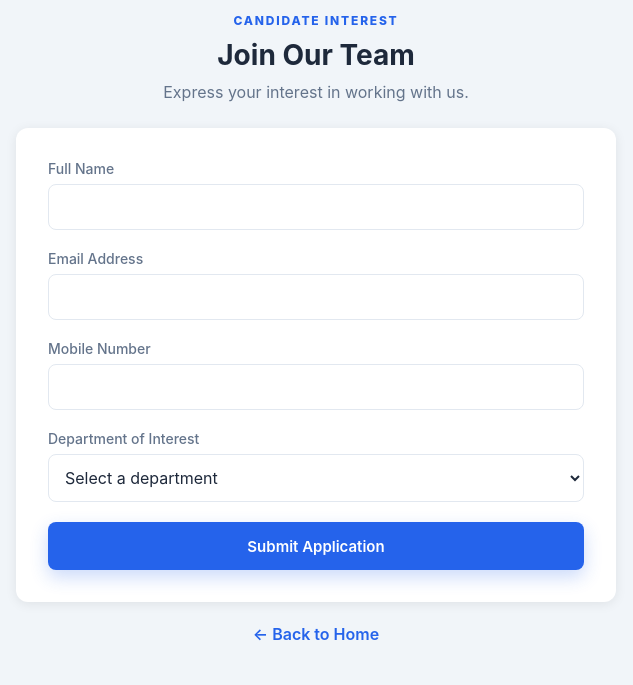
Test: InterestForm › shows field-level feedback and does not persist invalid candidate input
Type "Alex123" into the field labelled "Full Name" at (316, 207), box [48, 184, 584, 230]
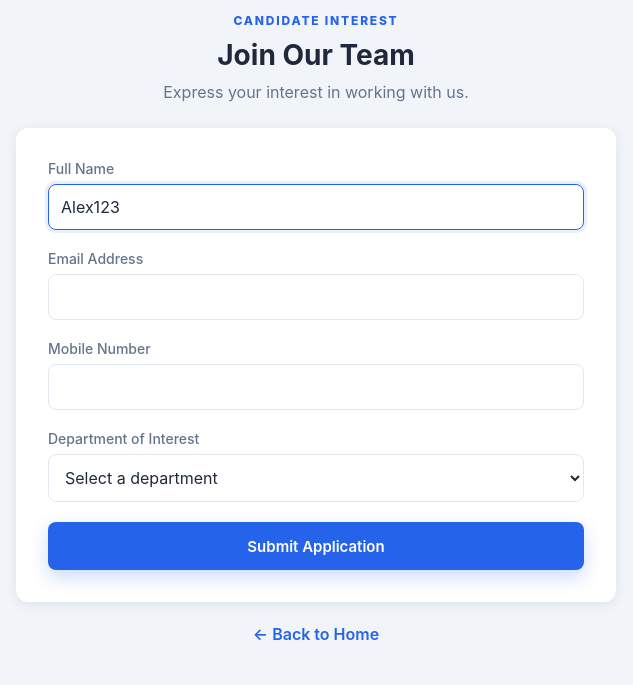
Type "not-an-email" into the field labelled "Email Address" at (316, 297), box [48, 274, 584, 320]
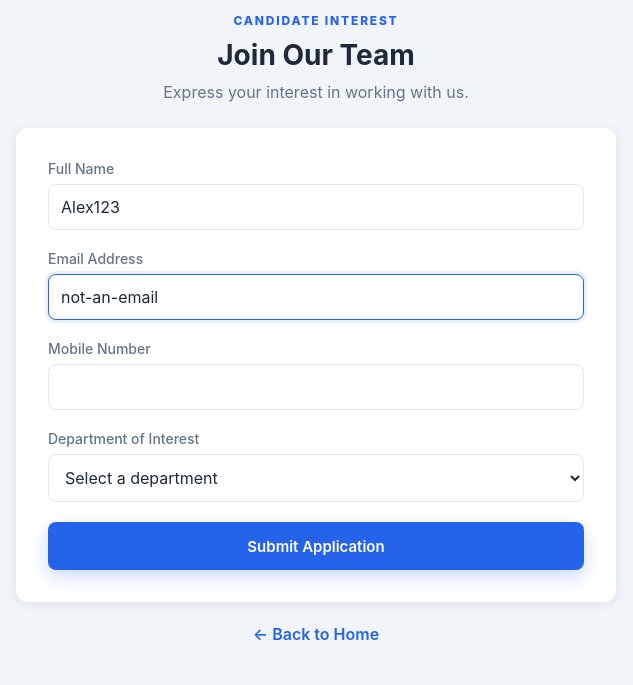
Type "123" into the field labelled "Mobile Number" at (316, 387), box [48, 364, 584, 410]
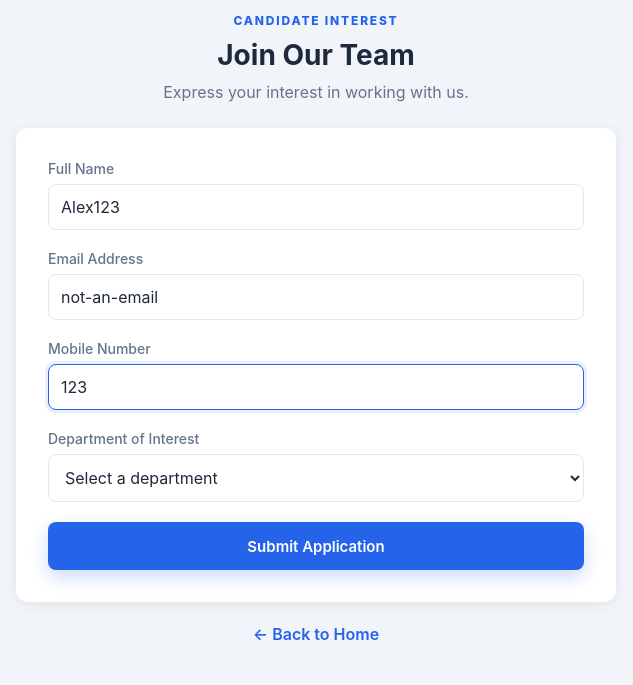
Click the button "Submit Application" at (316, 546), box [48, 522, 584, 570]
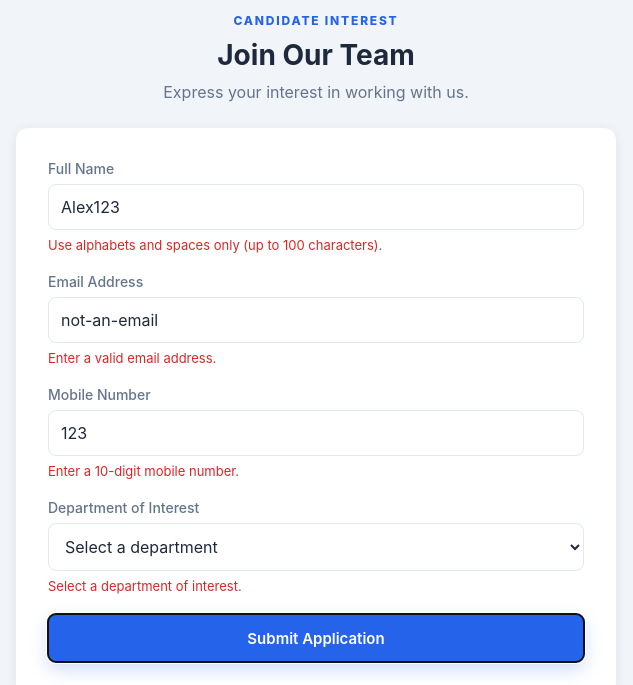
Expected: the text "Use alphabets and spaces only (up to 100 characters)." is shown, [48, 237, 382, 253]
Expected: the text "Enter a valid email address." is shown, [48, 350, 216, 366]
Expected: the text "Enter a 10-digit mobile number." is shown, [48, 463, 239, 479]
